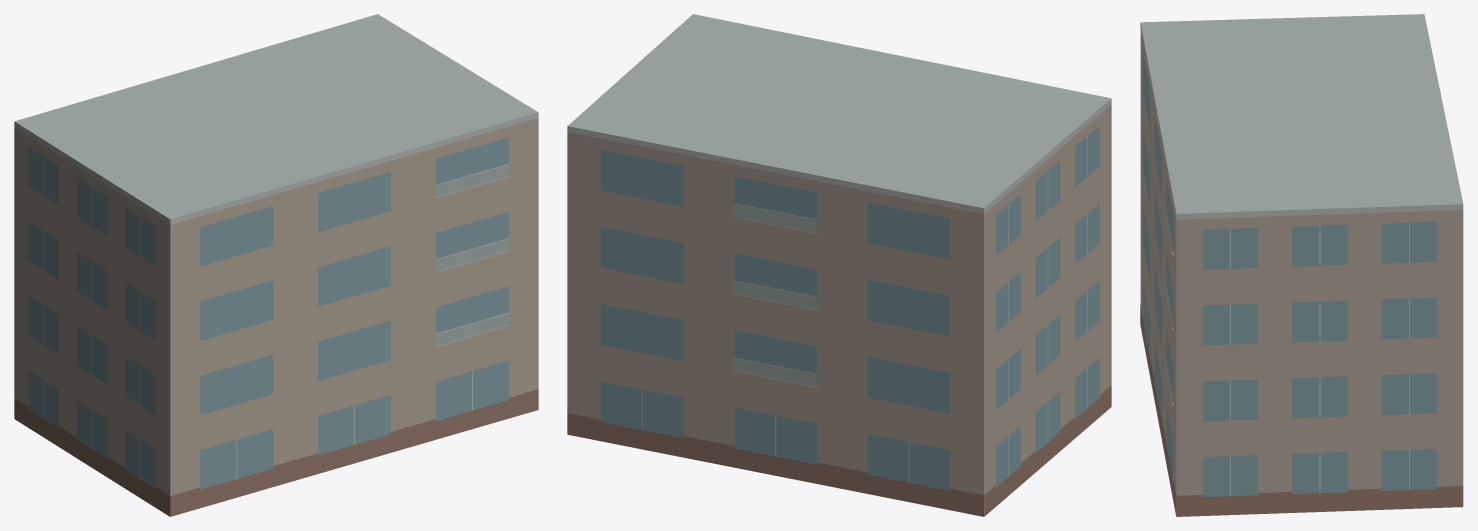
File: survey-upis-32759657.glb
The picture shows the model from 3 angles, left to right: view 1: azimuth 30°, elevation 25°; view 2: azimuth 150°, elevation 25°; view 3: azimuth 270°, elevation 25°; orthographic projection. The views are drawn at different scales.
Visible parts, largest first — view 1: survey-upis-32759657.tmp; view 2: survey-upis-32759657.tmp; view 3: survey-upis-32759657.tmp.
Part boxes in pixels (<box>): survey-upis-32759657.tmp: <box>14,14,538,516</box>; survey-upis-32759657.tmp: <box>567,14,1111,516</box>; survey-upis-32759657.tmp: <box>1140,14,1463,516</box>.
Size of the model in its own units: 18.13 by 12.8 by 12.37.
